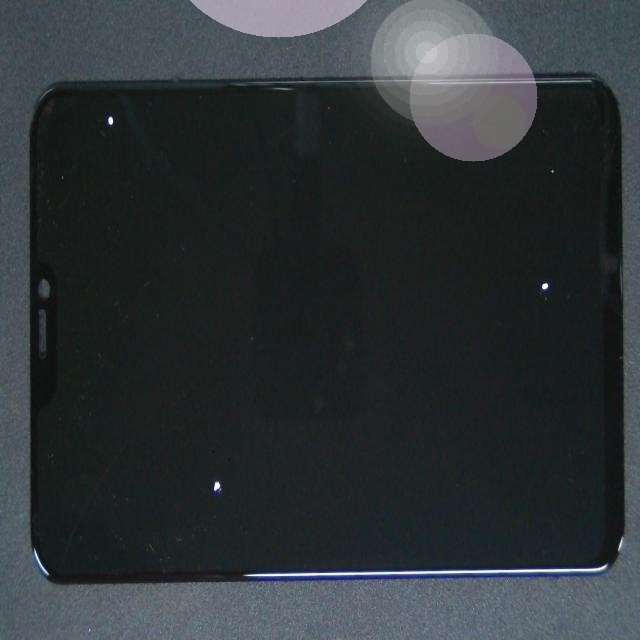stain: (260, 156, 640, 471), (89, 269, 324, 640), (40, 44, 145, 205)
